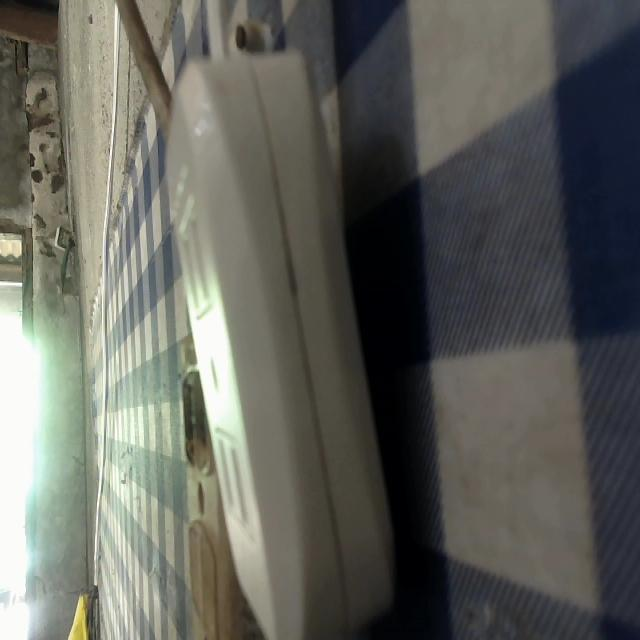-: (176, 367, 209, 453)
